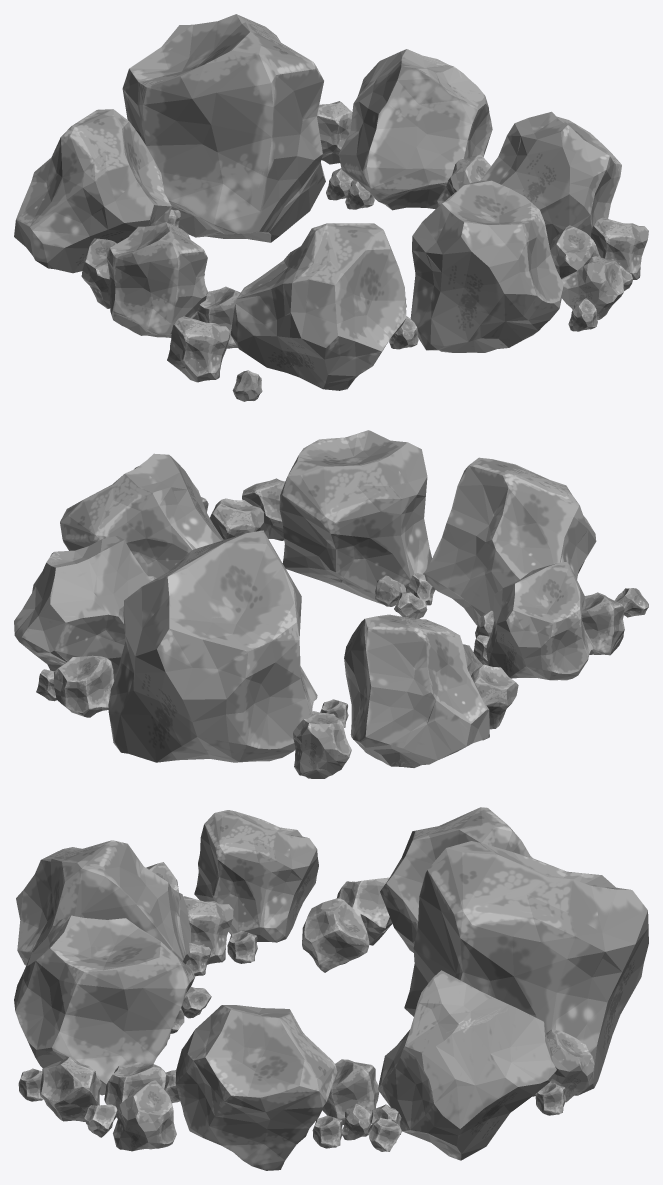
The model's file is Stones.fbx.
3 renders of one model, top to bottom at view 1: azimuth 30°, elevation 25°; view 2: azimuth 150°, elevation 25°; view 3: azimuth 270°, elevation 25°, orthographic. The views are drawn at different scales.
Parts seen in each view (by area): view 1: Stones; view 2: Stones; view 3: Stones.
Boxes of the visible parts, <box> form: Stones: <box>14,14,648,401</box>; Stones: <box>14,430,648,778</box>; Stones: <box>14,807,648,1170</box>.
Size of the model in its own units: 177 by 70.98 by 180.
Materials: 1 (1 with a texture image).
